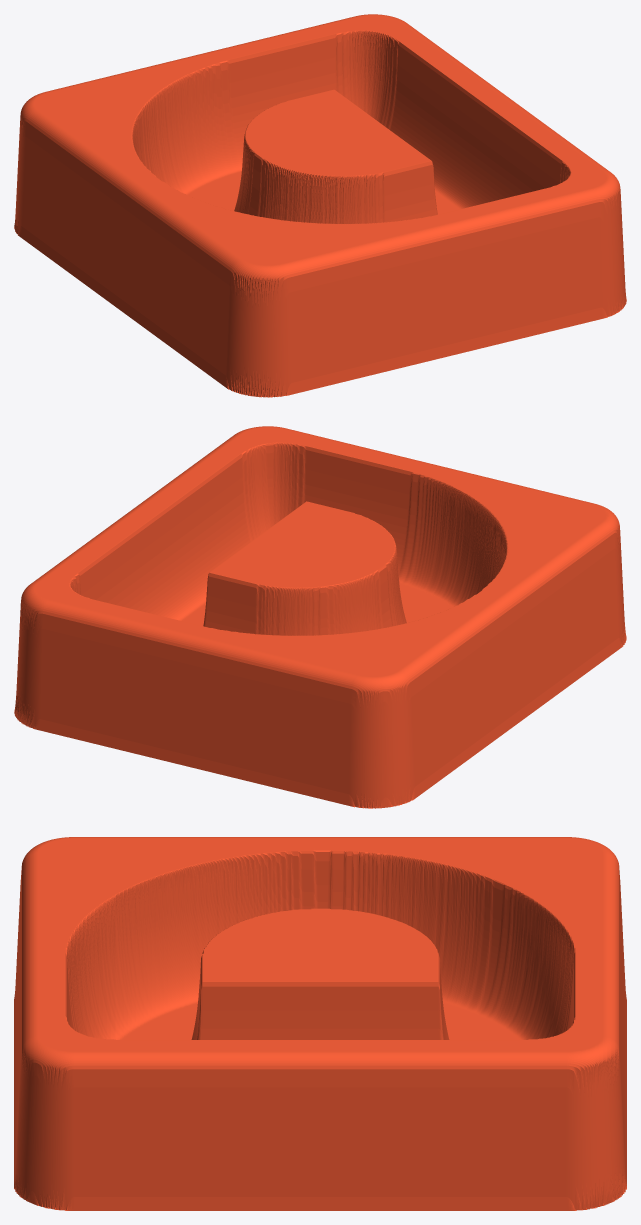
Rendered from mold.glb.
The picture shows the model from 3 angles, top to bottom: view 1: azimuth 30°, elevation 25°; view 2: azimuth 150°, elevation 25°; view 3: azimuth 270°, elevation 25°; orthographic projection. The views are drawn at different scales.
Parts seen in each view (by area): view 1: geometry_0; view 2: geometry_0; view 3: geometry_0.
Boxes of the visible parts, left/top/right/bottom form: geometry_0: left=14, top=14, right=626, bottom=397; geometry_0: left=14, top=426, right=626, bottom=808; geometry_0: left=14, top=837, right=626, bottom=1210.
Bounding box in the file's own units: 0.0832 × 0.0248 × 0.0924.
